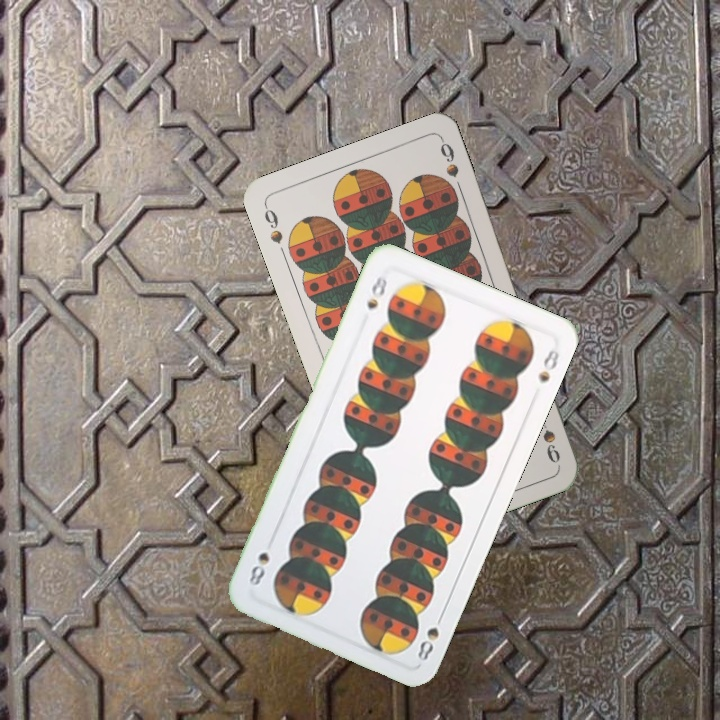S8: (413, 608, 447, 664), (362, 271, 390, 312)
S9: (260, 201, 286, 247), (538, 422, 563, 466)
